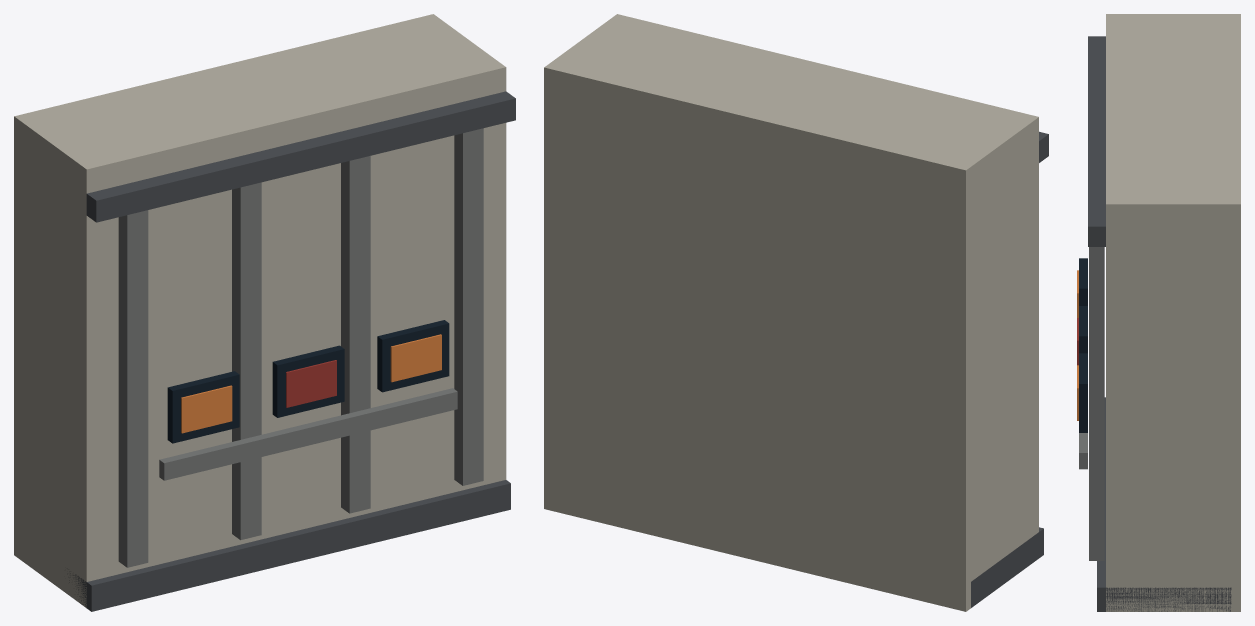
File: rebel_wall_detail.glb
3 renders of one model, left to right at view 1: azimuth 30°, elevation 25°; view 2: azimuth 150°, elevation 25°; view 3: azimuth 270°, elevation 25°, orthographic. The views are drawn at different scales.
Parts seen in each view (by area): view 1: rebel_wall_detail; view 2: rebel_wall_detail; view 3: rebel_wall_detail.
Part boxes in pixels (bbox=[...]): rebel_wall_detail: bbox=[14, 14, 515, 611]; rebel_wall_detail: bbox=[544, 14, 1048, 611]; rebel_wall_detail: bbox=[1077, 14, 1240, 611].
Bounding box in the file's own units: 1 × 1 × 0.364.
